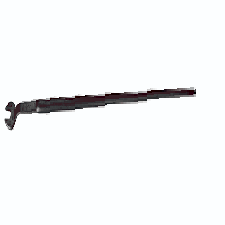Wrench: (3, 80, 207, 131)
